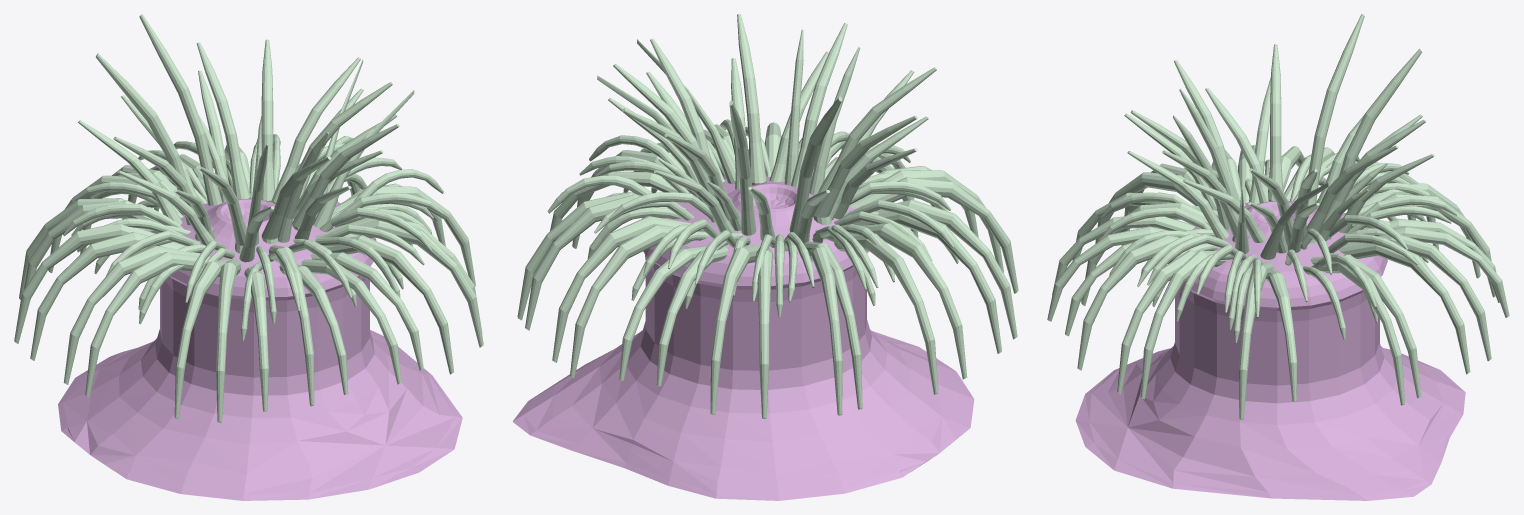
File: anemone2.fbx
3 renders of one model, left to right at view 1: azimuth 30°, elevation 25°; view 2: azimuth 150°, elevation 25°; view 3: azimuth 270°, elevation 25°, orthographic. The views are drawn at different scales.
Visible parts, largest first — view 1: Anemone_1; view 2: Anemone_1; view 3: Anemone_1.
Part boxes in pixels (x1,y1,x2,y2): Anemone_1: [14, 14, 483, 500]; Anemone_1: [512, 14, 1018, 500]; Anemone_1: [1047, 14, 1509, 500].
Size of what is drawn, in the model's own units: 211 by 177 by 212.
